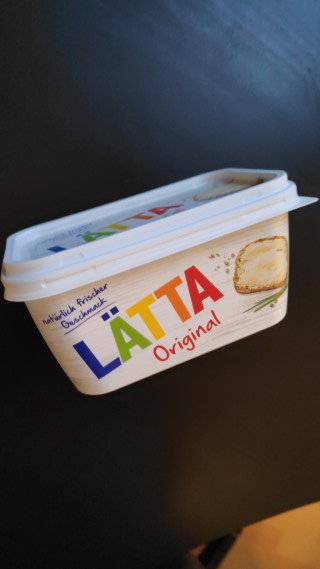laetta: (1, 165, 320, 396)
